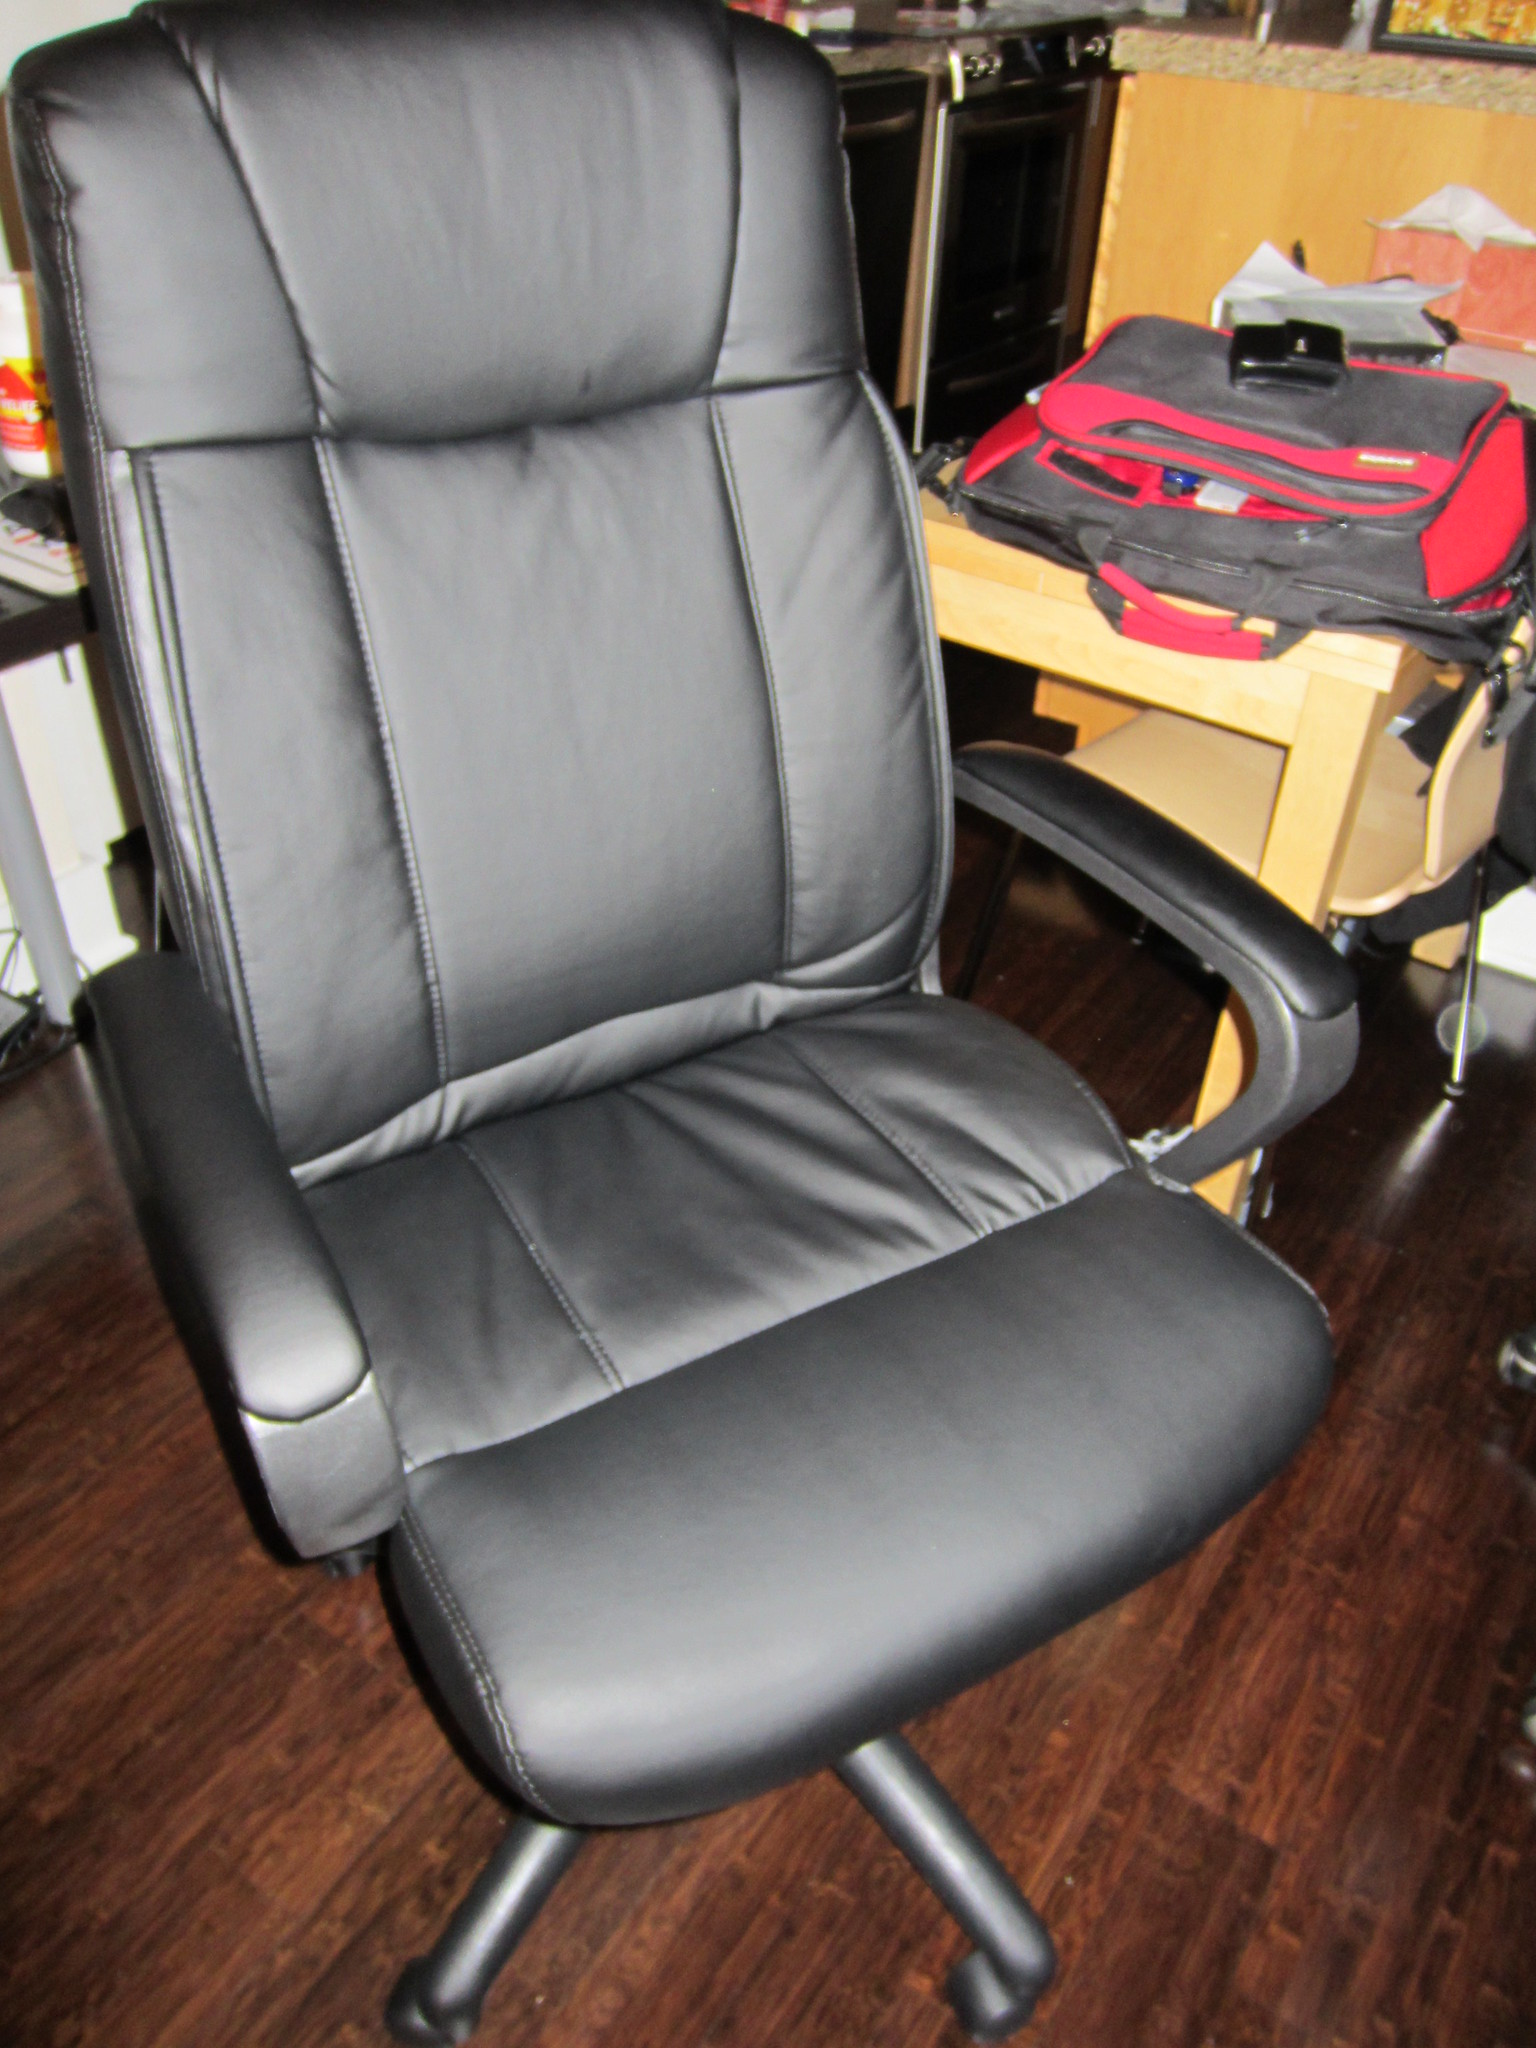chair: (5, 10, 1331, 2046)
